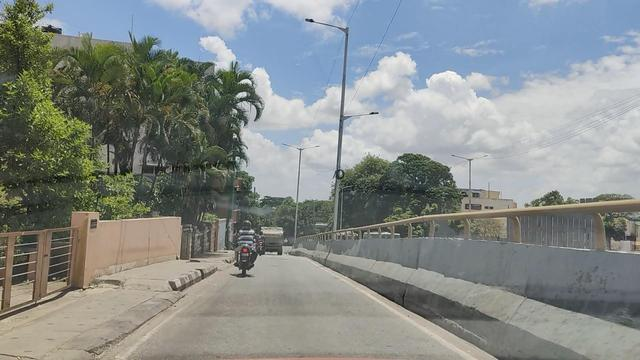LMV: (237, 218, 260, 273)
